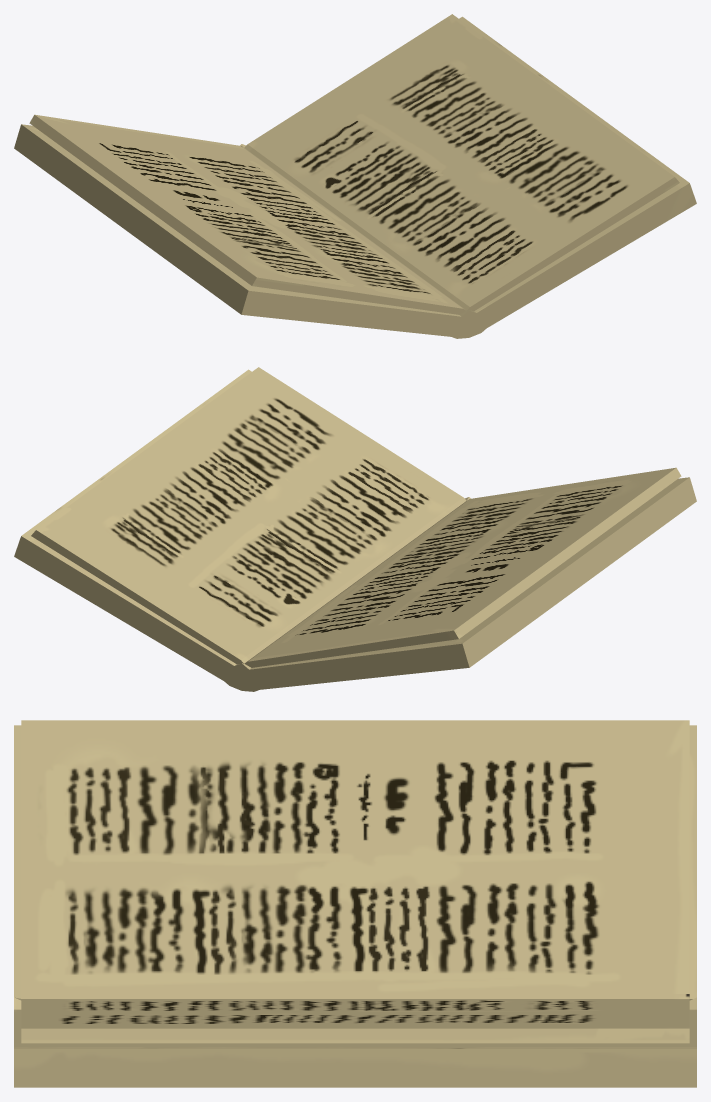
The model's file is Bible.glb.
The picture shows the model from 3 angles, top to bottom: view 1: azimuth 30°, elevation 25°; view 2: azimuth 150°, elevation 25°; view 3: azimuth 270°, elevation 25°; orthographic projection. The views are drawn at different scales.
Visible parts, largest first — view 1: Cube; view 2: Cube; view 3: Cube.
Boxes of the visible parts, box(x1,y1,x2,y2) form: Cube: box(14, 14, 696, 338); Cube: box(14, 367, 696, 691); Cube: box(14, 720, 696, 1087).
Bounding box in the file's own units: 0.809 × 0.1863 × 0.6994.
Materials: 1 (1 with a texture image).
